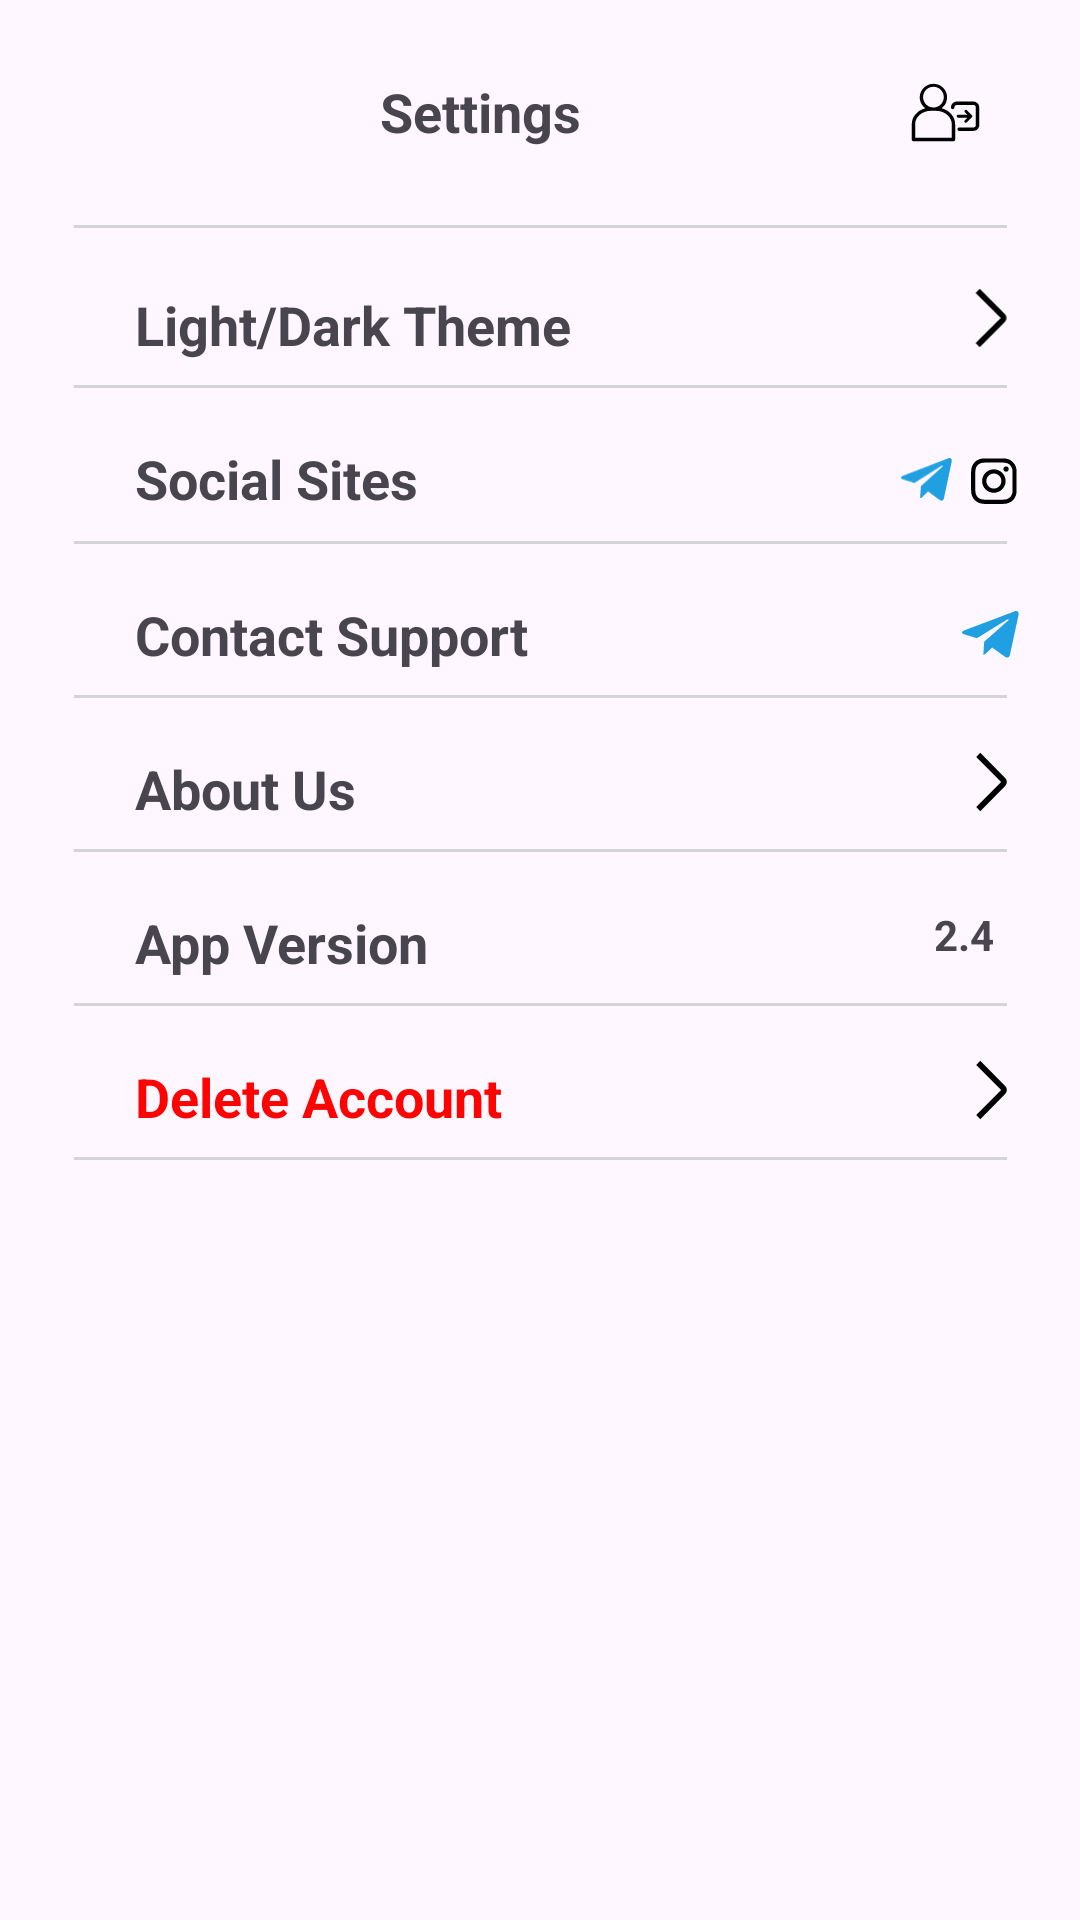

Icon click points for this 1080px×1920px phone screenshot, format point (x, y):
arrow right: point (991, 318), point (991, 782), point (991, 1090)
